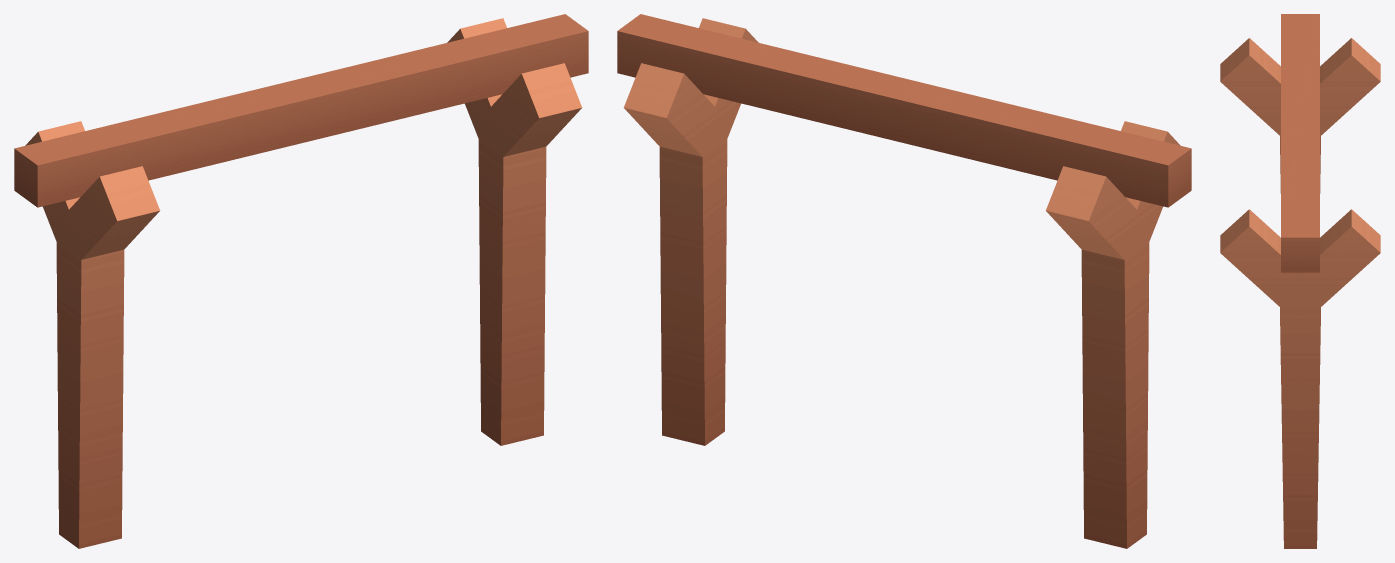
File: campfire-stand.glb
3 renders of one model, left to right at view 1: azimuth 30°, elevation 25°; view 2: azimuth 150°, elevation 25°; view 3: azimuth 270°, elevation 25°, orthographic. The views are drawn at different scales.
Parts seen in each view (by area): view 1: campfire-stand; view 2: campfire-stand; view 3: campfire-stand.
Boxes of the visible parts, bbox=[...] form: campfire-stand: bbox=[14, 14, 588, 548]; campfire-stand: bbox=[617, 14, 1191, 548]; campfire-stand: bbox=[1220, 14, 1380, 548].
Size of the model in its own units: 0.41 by 0.281 by 0.1245.
Materials: 1 (1 with a texture image).
